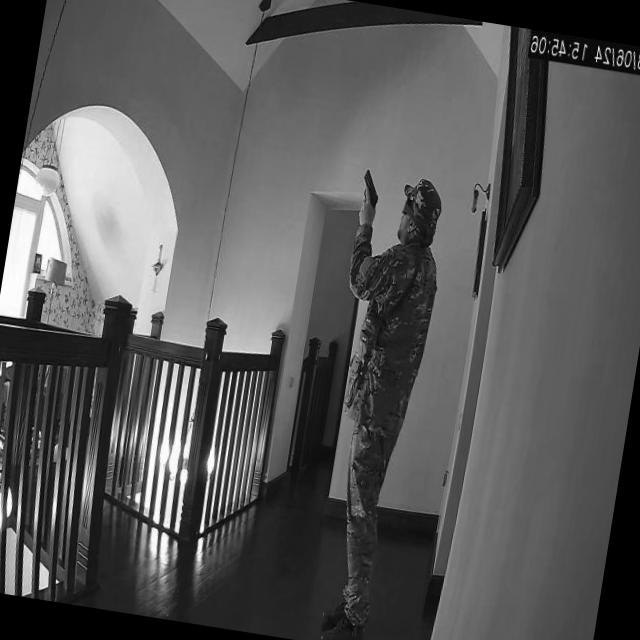gun: (356, 167, 384, 219)
person with a gun: (311, 171, 454, 640)
